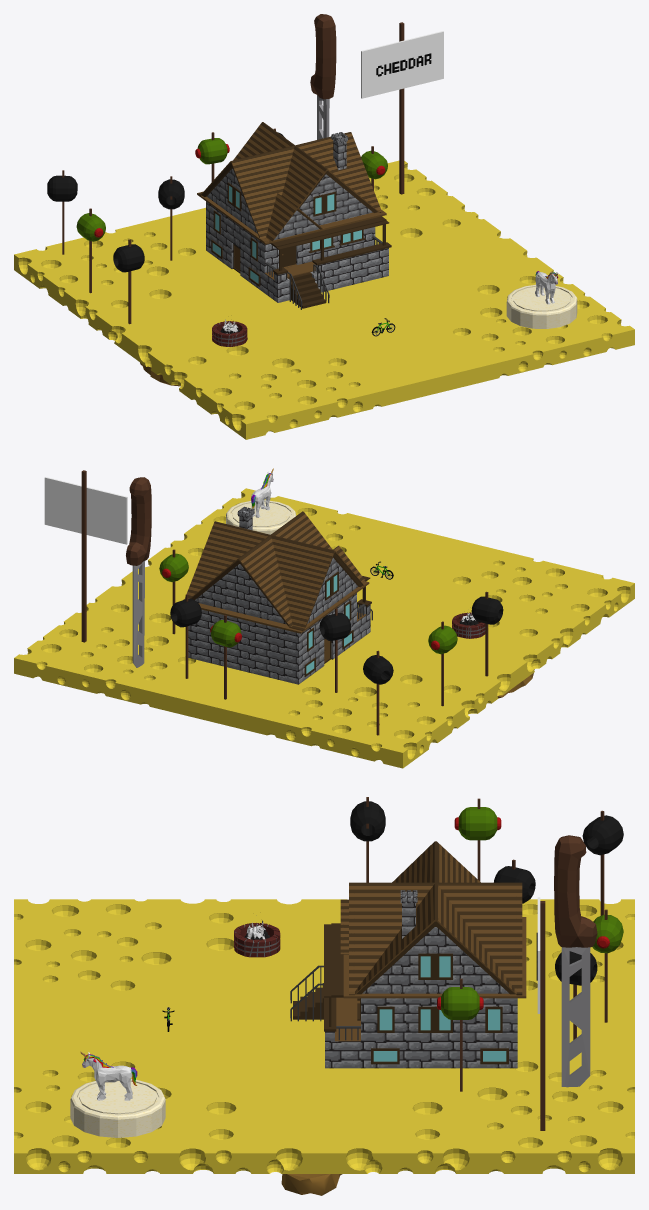
The picture shows the model from 3 angles, top to bottom: view 1: azimuth 30°, elevation 25°; view 2: azimuth 150°, elevation 25°; view 3: azimuth 270°, elevation 25°; orthographic projection. The views are drawn at different scales.
Visible parts, largest first — view 1: Cube.022, Cube.586, Cube.023, Cylinder.016, Cube.024, Sphere.017, Sphere.016, Sphere.020, OBJRANDOM_CAMPFIRE, Sphere.018, Sphere.022, Sphere.019; view 2: Cube.022, Cube.586, Cube.023, Cube.024, Cylinder.016, Sphere.021, Sphere.017, Sphere.016, Sphere.020, Sphere.022, Sphere.018, Sphere.019 (+2 smaller); view 3: Cube.022, Cube.586, Cube.024, Cylinder.016, Cube.023, Sphere.016, Sphere.019, Sphere.018, OBJRANDOM_CAMPFIRE, Sphere.017, ANIMAL_UNICORNIO, Sphere.022 (+3 smaller).
Boxes of the visible parts, x1,y1,x2,y2 form: Cube.022: [14, 160, 634, 439]; Cube.586: [197, 122, 391, 309]; Cube.023: [361, 22, 443, 194]; Cylinder.016: [506, 284, 577, 328]; Cube.024: [310, 14, 336, 139]; Sphere.017: [113, 239, 144, 324]; Sphere.016: [47, 170, 77, 254]; Sphere.020: [158, 176, 184, 260]; OBJRANDOM_CAMPFIRE: [212, 319, 247, 346]; Sphere.018: [76, 208, 105, 293]; Sphere.022: [195, 132, 229, 181]; Sphere.019: [361, 146, 387, 189]; Cube.022: [14, 488, 634, 768]; Cube.586: [183, 506, 372, 684]; Cube.023: [44, 470, 127, 642]; Cube.024: [126, 477, 151, 667]; Cylinder.016: [226, 500, 296, 534]; Sphere.021: [170, 594, 201, 678]; Sphere.017: [471, 591, 503, 676]; Sphere.016: [363, 650, 393, 735]; Sphere.020: [319, 608, 350, 692]; Sphere.022: [210, 615, 241, 699]; Sphere.018: [428, 621, 457, 706]; Sphere.019: [159, 549, 188, 634]; Cube.022: [14, 899, 634, 1173]; Cube.586: [290, 841, 526, 1068]; Cube.024: [554, 835, 597, 1087]; Cylinder.016: [70, 1079, 165, 1137]; Cube.023: [536, 897, 545, 1130]; Sphere.016: [582, 810, 623, 915]; Sphere.019: [437, 978, 483, 1091]; Sphere.018: [454, 798, 501, 881]; OBJRANDOM_CAMPFIRE: [234, 915, 280, 957]; Sphere.017: [350, 797, 385, 882]; ANIMAL_UNICORNIO: [80, 1051, 137, 1100]; Sphere.022: [592, 909, 623, 1022].
Bounding box in the file's own units: 3928 × 2120 × 4000.
39 materials, 4 textured.
